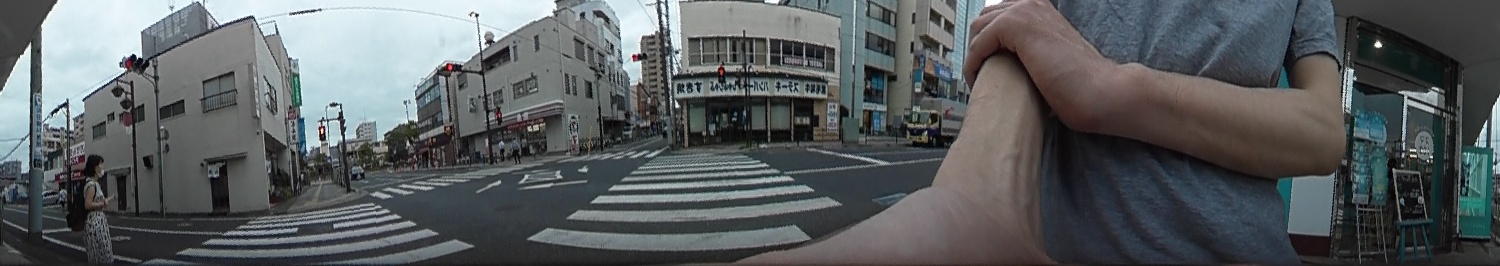difficult_person: (511, 135, 520, 164)
person: (74, 147, 120, 262)
